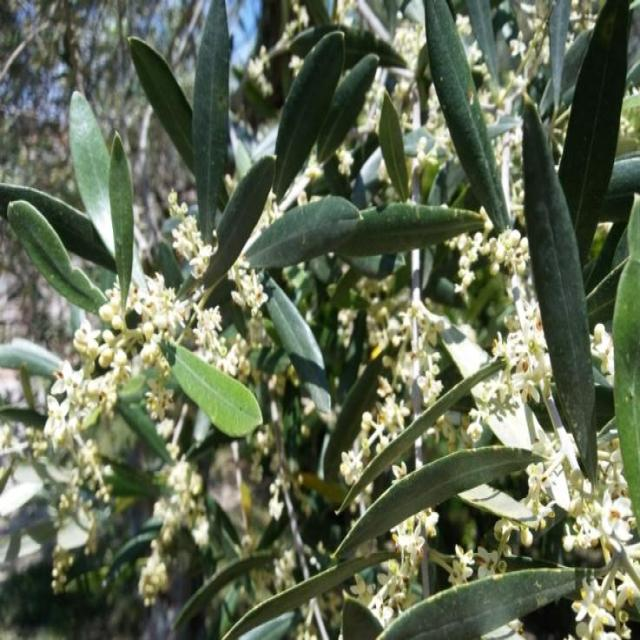Healthy: (523, 101, 597, 485), (334, 447, 541, 562), (272, 32, 344, 200), (7, 200, 106, 314), (162, 340, 262, 438), (245, 197, 362, 269), (109, 133, 133, 310)
